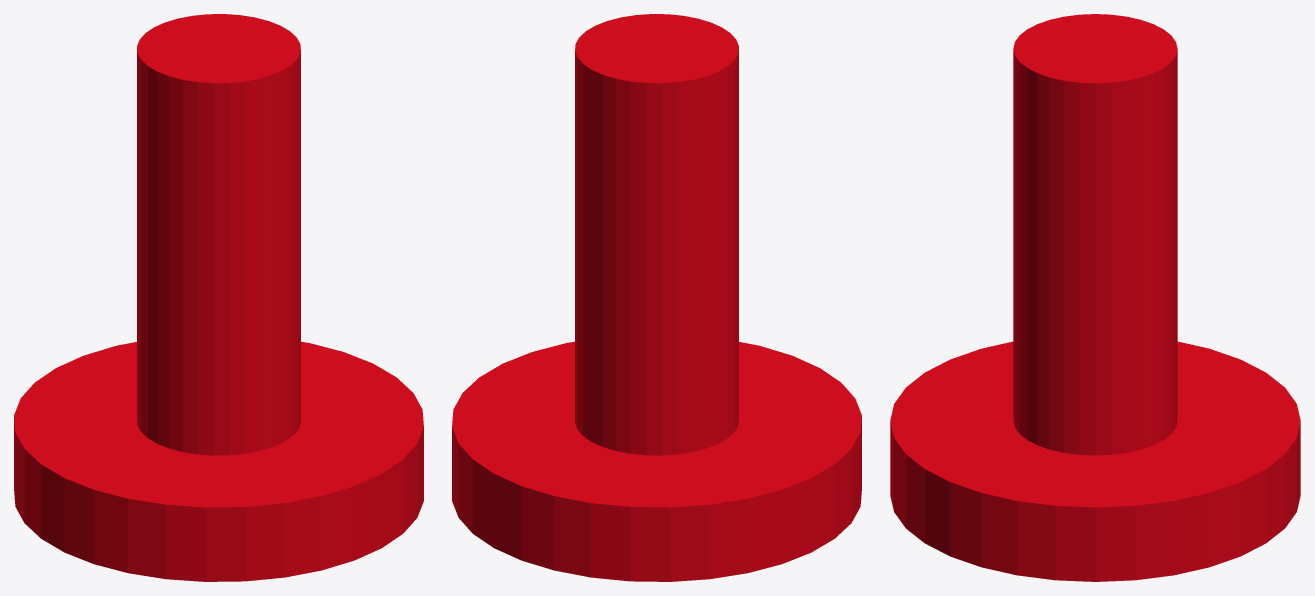
Rendered from scara-link-0.dae.
The picture shows the model from 3 angles, left to right: view 1: azimuth 30°, elevation 25°; view 2: azimuth 150°, elevation 25°; view 3: azimuth 270°, elevation 25°; orthographic projection.
Parts seen in each view (by area): view 1: Link0; view 2: Link0; view 3: Link0.
Part boxes in pixels (x1,y1,x2,y2): Link0: [14, 14, 423, 581]; Link0: [452, 14, 861, 581]; Link0: [890, 14, 1300, 581].
Bounding box in the file's own units: 1 × 1 × 1.2.
